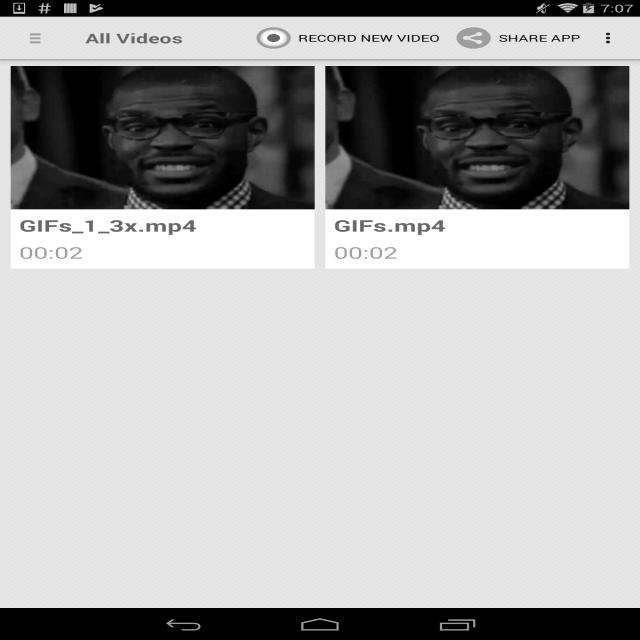ImageButton: (9, 17, 68, 59)
ImageView: (326, 66, 630, 209), (11, 66, 314, 209), (589, 22, 631, 54)
TextView: (326, 209, 630, 242), (11, 209, 314, 242), (326, 242, 630, 268), (11, 242, 314, 268), (248, 22, 448, 54), (448, 22, 589, 54), (85, 29, 183, 47)
